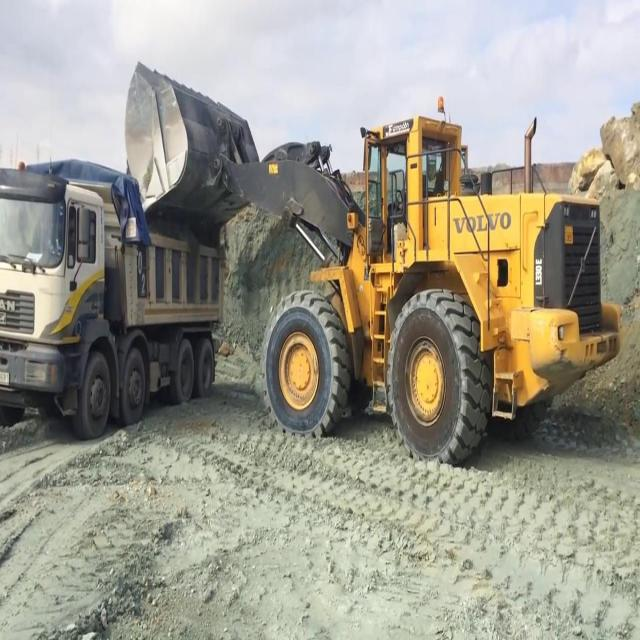buldozerpayloadergrader: (123, 59, 622, 468)
dump_truck: (0, 156, 226, 440)
